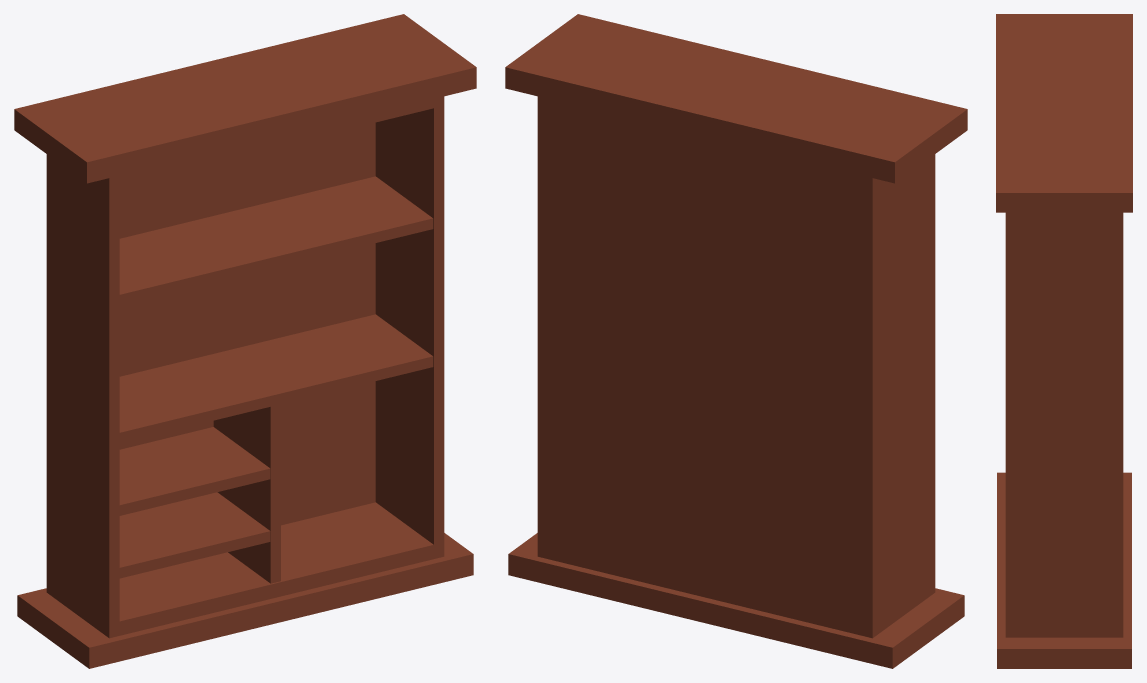
The model's file is Armario medicinas.fbx.
3 views of the same model, side by side, from view 1: azimuth 30°, elevation 25°; view 2: azimuth 150°, elevation 25°; view 3: azimuth 270°, elevation 25° (orthographic). The views are drawn at different scales.
Visible parts, largest first — view 1: Cube.005; view 2: Cube.005; view 3: Cube.005.
Part boxes in pixels (x1,y1,x2,y2): Cube.005: [14, 14, 476, 668]; Cube.005: [505, 14, 967, 668]; Cube.005: [996, 14, 1132, 668].
Size of the model in its own units: 175 by 218 by 56.7.
